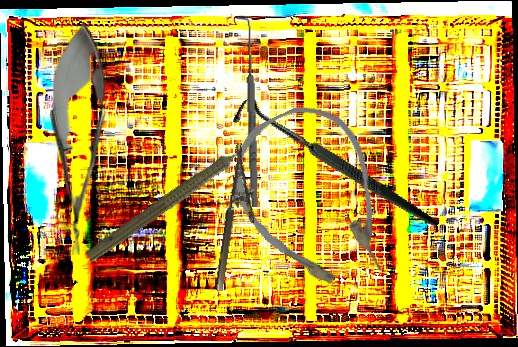Cannula: (212, 88, 414, 314)
Handpiece: (83, 132, 264, 270)
Hook Surgical: (227, 47, 439, 288), (236, 16, 261, 208)
Micro Scissor: (47, 21, 110, 256)
Needle Holder: (213, 142, 266, 295)
